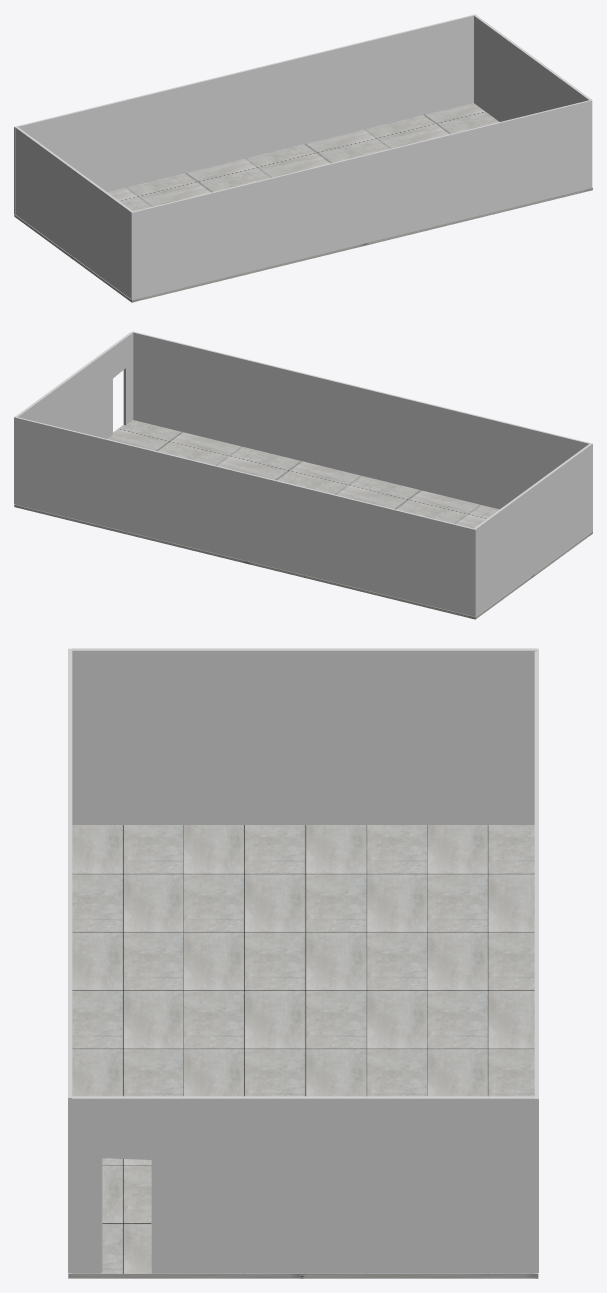
File: room.glb
3 renders of one model, top to bottom at view 1: azimuth 30°, elevation 25°; view 2: azimuth 150°, elevation 25°; view 3: azimuth 270°, elevation 25°, orthographic. The views are drawn at different scales.
Visible parts, largest first — view 1: Cube.002, Cube.001, Cube, Cube.004, Cube.003; view 2: Cube.001, Cube.002, Cube, Cube.004, Cube.003; view 3: Cube, Cube.004, Cube.003, Cube.001, Cube.002.
Part boxes in pixels (x1=…): Cube.002: x1=131, y1=100, x2=592, y2=300; Cube.001: x1=14, y1=14, x2=475, y2=214; Cube: x1=14, y1=103, x2=592, y2=302; Cube.004: x1=15, y1=126, x2=132, y2=298; Cube.003: x1=474, y1=15, x2=591, y2=121; Cube.001: x1=14, y1=417, x2=476, y2=616; Cube.002: x1=132, y1=331, x2=592, y2=531; Cube: x1=14, y1=420, x2=592, y2=619; Cube.004: x1=473, y1=443, x2=591, y2=615; Cube.003: x1=15, y1=332, x2=133, y2=438; Cube: x1=68, y1=825, x2=538, y2=1278; Cube.004: x1=72, y1=648, x2=536, y2=824; Cube.003: x1=72, y1=1096, x2=535, y2=1273; Cube.001: x1=534, y1=648, x2=538, y2=1272; Cube.002: x1=68, y1=648, x2=72, y2=1272.
Bounding box in the file's own units: 20.07 × 3.74 × 8.86.
1 material, 1 textured.
